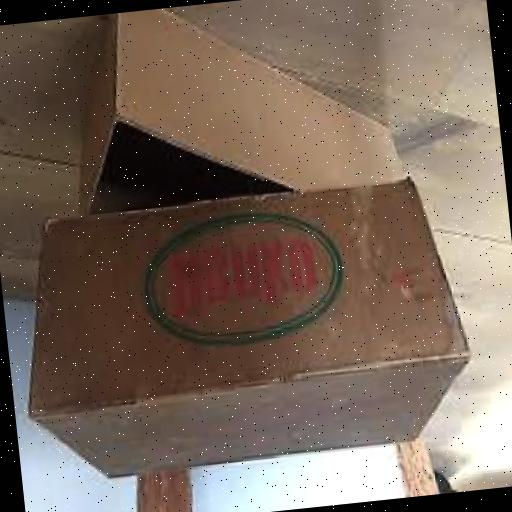cardboard: (4, 174, 478, 490), (57, 0, 402, 219)
